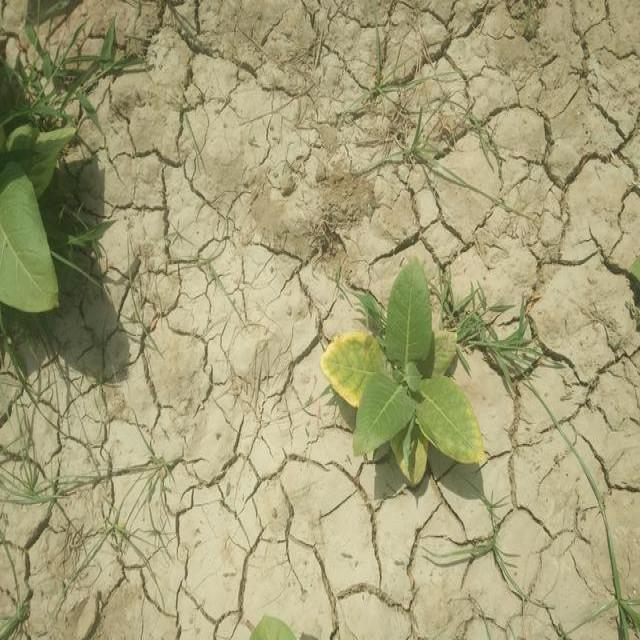crop: (324, 258, 480, 482), (0, 103, 73, 315)
